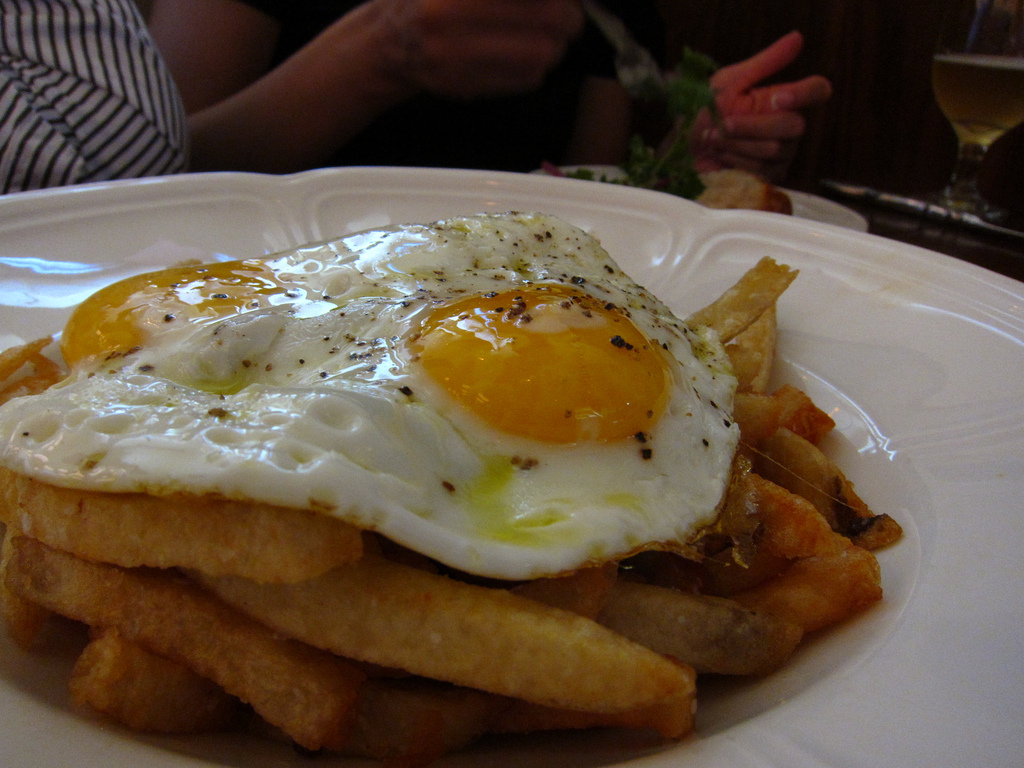fried egg: (48, 243, 745, 567)
